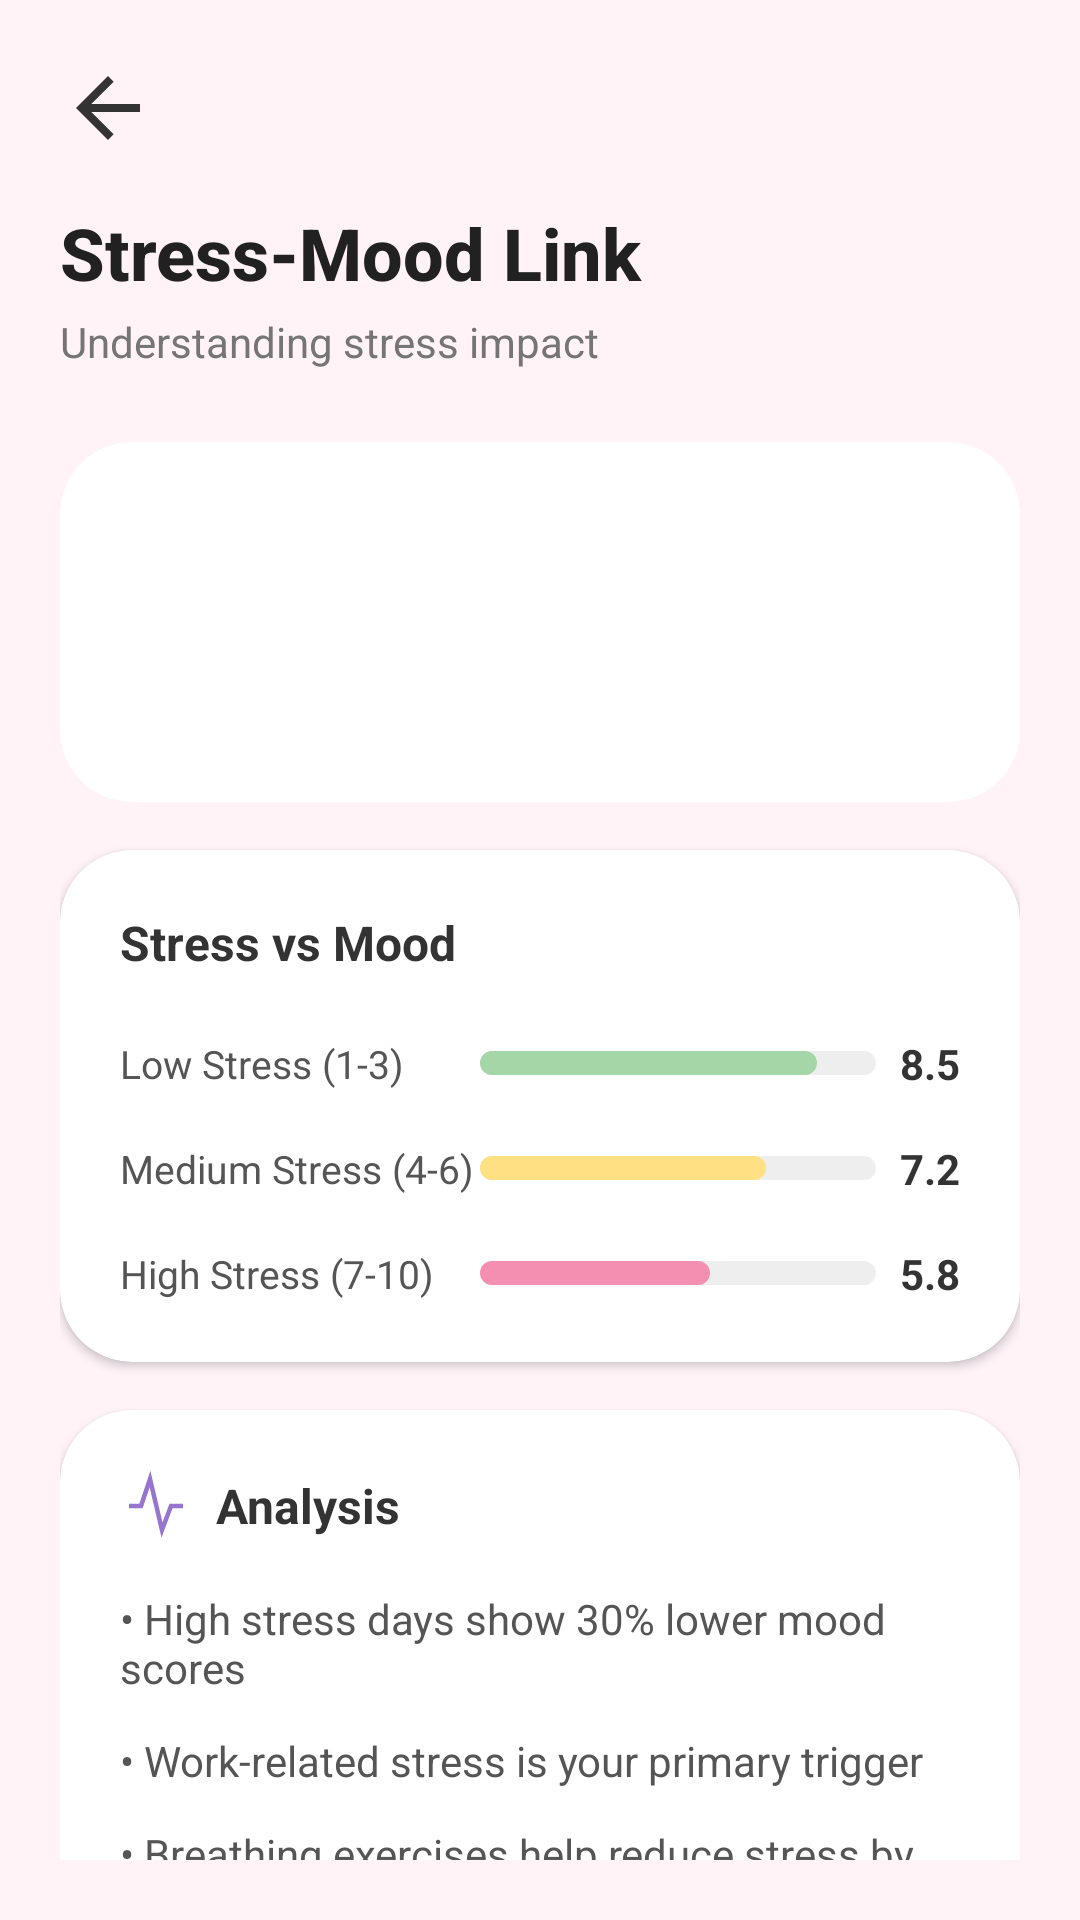

Icon click points for this 1080×1920 phone screenshot, format (x,y):
arrow back: (108,108)
waveform: (156,1504)
